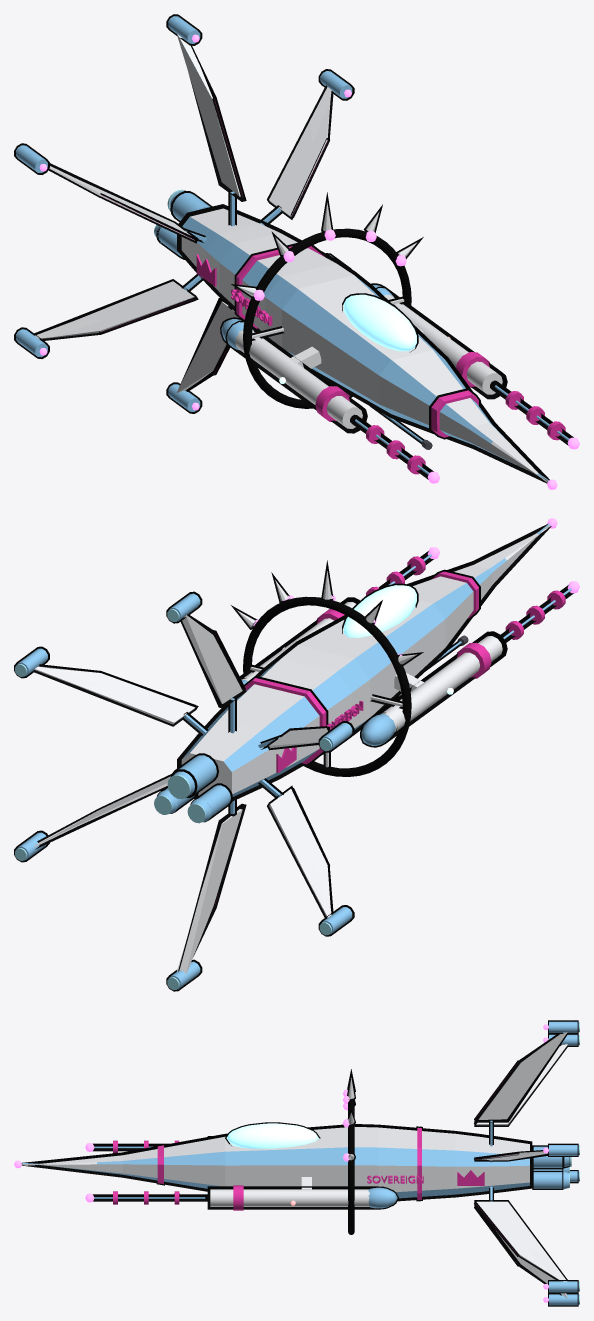
Rendered from Plane_Royal.fbx.
3 renders of one model, top to bottom at view 1: azimuth 30°, elevation 25°; view 2: azimuth 150°, elevation 25°; view 3: azimuth 270°, elevation 25°, orthographic. The views are drawn at different scales.
Parts seen in each view (by area): view 1: Hull.003, Cannon-1, Vane210, Vane30, Halo, Canopy, Vane90, Cannon1, Vane270, Vane150, LanceBand, BandA (+8 smaller); view 2: Hull.003, Vane30, Halo, Vane210, Cannon-1, Vane270, Vane90, Canopy, Vane330, BandA, CannonCap-1, Vane150 (+4 smaller); view 3: Hull.003, Cannon1, Vane90, Vane330, Canopy, Barrel1, Halo, Vane150, Aux1_Body, CannonCap1, Vane270, Vane30 (+7 smaller).
Part boxes in pixels (x1,y1,x2,y2): Hull.003: [177, 204, 549, 483]; Cannon-1: [225, 320, 367, 433]; Vane210: [32, 279, 198, 340]; Vane30: [267, 85, 333, 219]; Halo: [243, 228, 411, 408]; Canopy: [342, 293, 418, 352]; Vane90: [177, 17, 246, 201]; Cannon1: [376, 286, 507, 399]; Vane270: [176, 298, 238, 392]; Vane150: [48, 163, 198, 243]; LanceBand: [429, 388, 480, 439]; BandA: [234, 242, 324, 328]; Hull.003: [177, 523, 551, 801]; Vane30: [32, 664, 198, 726]; Halo: [243, 596, 411, 776]; Vane210: [267, 785, 333, 917]; Cannon-1: [374, 631, 507, 742]; Vane270: [177, 803, 246, 974]; Vane90: [180, 615, 246, 708]; Canopy: [342, 583, 418, 637]; Vane330: [34, 774, 171, 849]; BandA: [244, 675, 328, 766]; CannonCap-1: [360, 712, 397, 747]; Vane150: [267, 726, 329, 750]; Hull.003: [21, 1124, 532, 1201]; Cannon1: [207, 1186, 378, 1209]; Vane90: [474, 1032, 568, 1122]; Vane330: [474, 1200, 568, 1281]; Canopy: [225, 1122, 320, 1148]; Barrel1: [93, 1194, 207, 1201]; Halo: [348, 1100, 354, 1234]; Vane150: [474, 1044, 568, 1126]; Aux1_Body: [532, 1171, 563, 1189]; CannonCap1: [367, 1186, 398, 1209]; Vane270: [474, 1205, 568, 1298]; Vane30: [474, 1150, 547, 1161].
Bounding box in the file's own units: 7.2 × 8.28 × 14.9.
